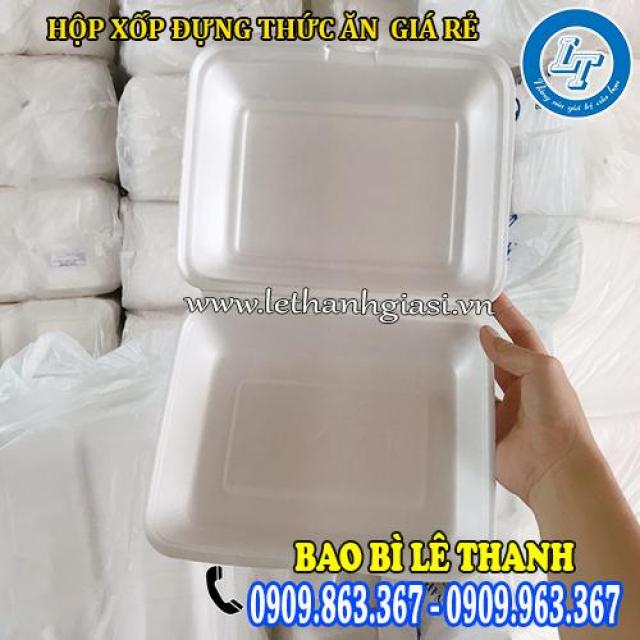styrofoam: (142, 37, 520, 577)
